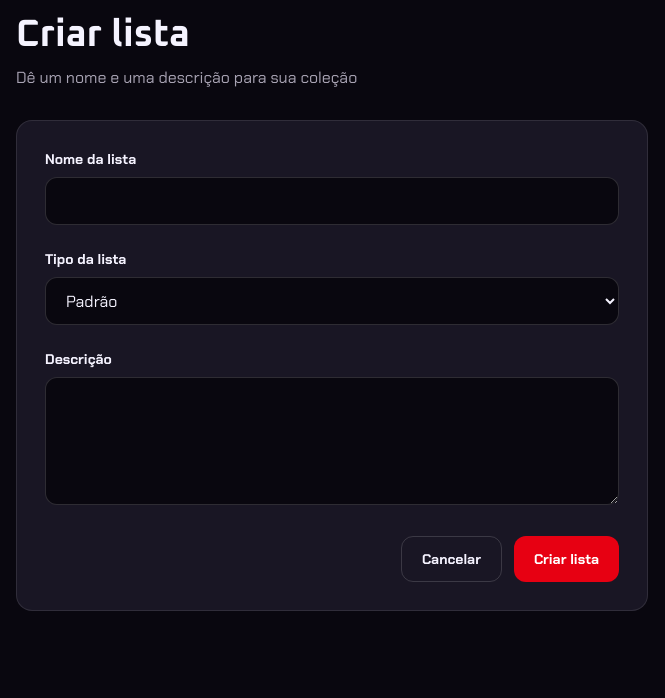
Test case: CreateListPage › preserves values, stays on the form, and sanitizes submission errors
Type " RPGs " into the field labelled "Nome da lista" at (332, 201), box x1=45 y1=177 x2=619 y2=225
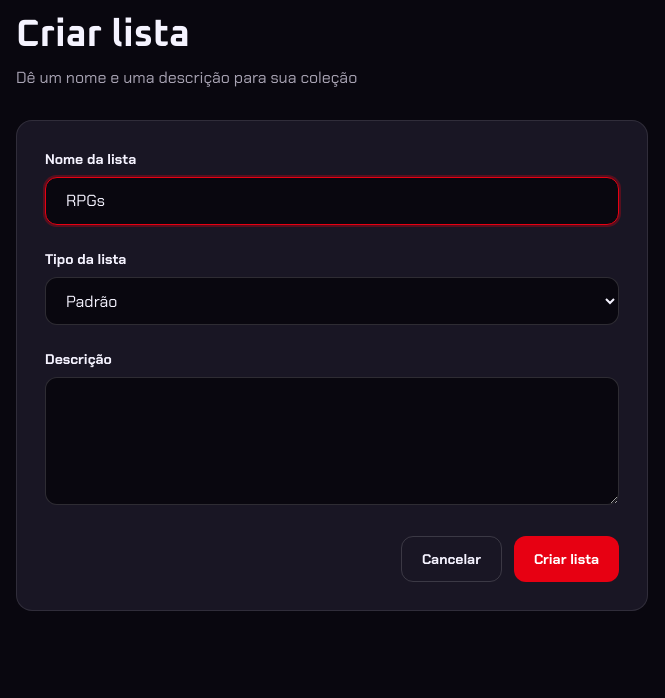
Type " Para jogar " into the text box labelled "Descrição" at (332, 441), box x1=45 y1=377 x2=619 y2=505
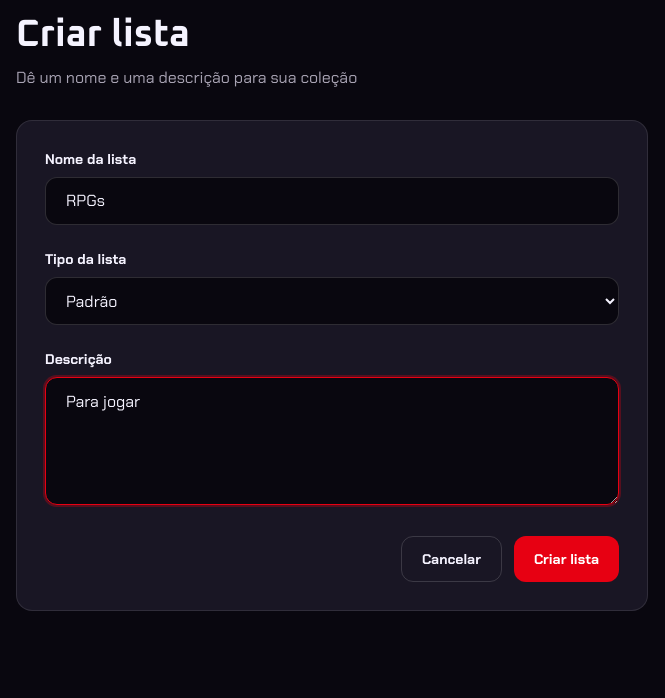
Click the button "Criar lista" at (566, 559), box x1=514 y1=536 x2=619 y2=582
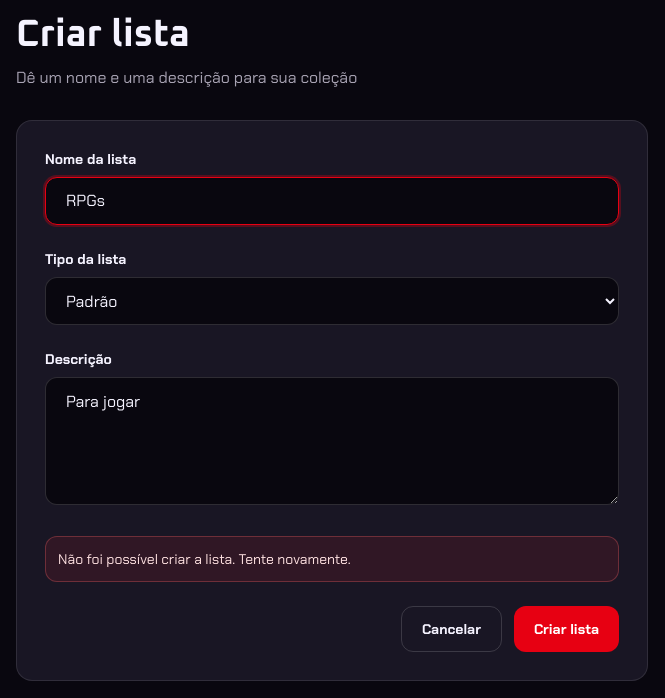
Expected: the heading "Criar lista" is shown, x1=16 y1=16 x2=190 y2=54
Expected: the message reads "Não foi possível criar a lista. Tente novamente.", x1=58 y1=550 x2=351 y2=568
